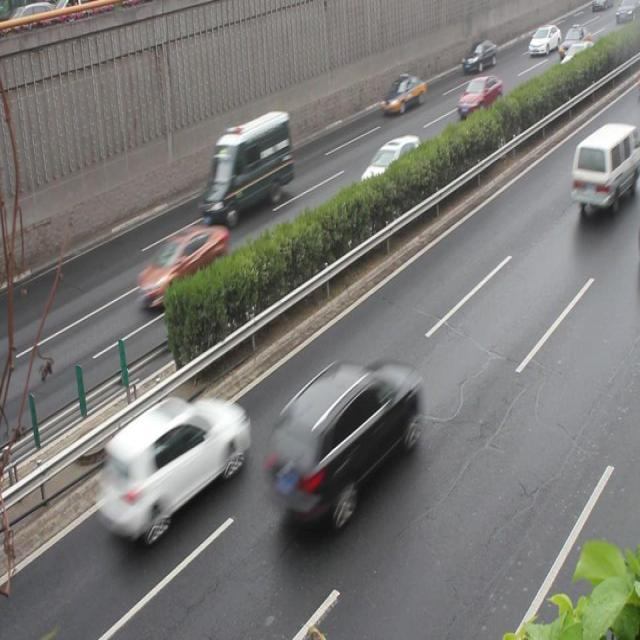car: (262, 357, 417, 520), (99, 394, 242, 536), (136, 222, 226, 304), (356, 133, 423, 199), (378, 71, 426, 115), (455, 72, 500, 116)
